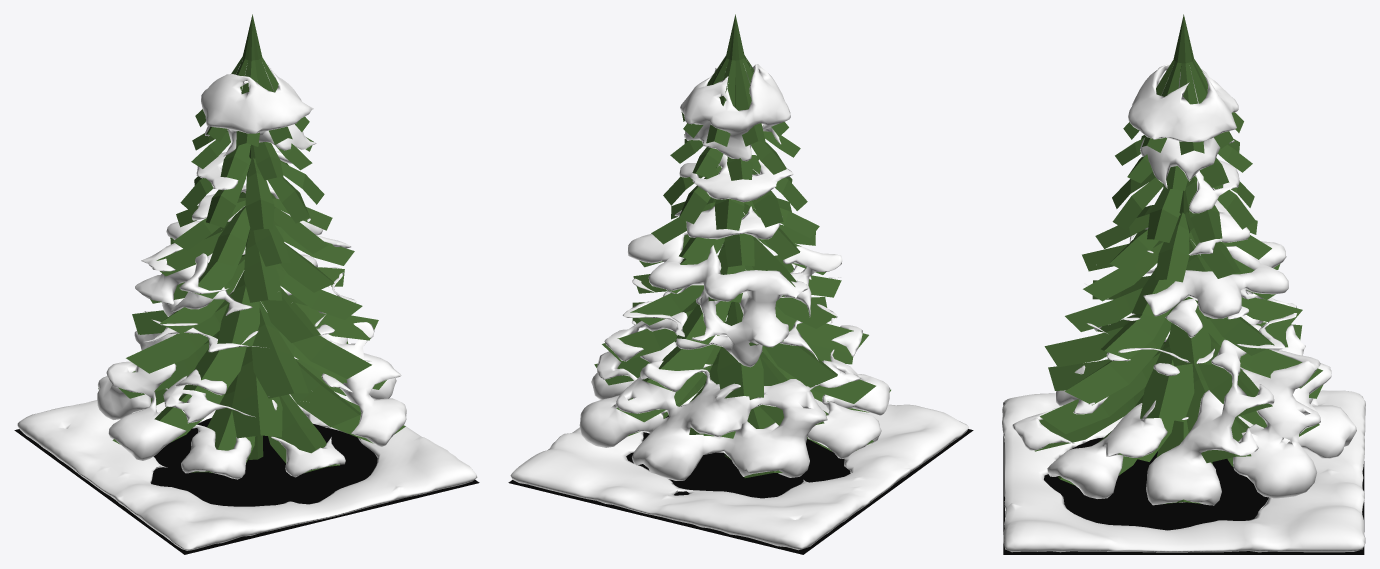
Rendered from Tree_S5P3.glb.
3 views of the same model, side by side, from view 1: azimuth 30°, elevation 25°; view 2: azimuth 150°, elevation 25°; view 3: azimuth 270°, elevation 25° (orthographic). The views are drawn at different scales.
Visible parts, largest first — view 1: SnowMesh, Fir_Tree, Plane; view 2: SnowMesh, Fir_Tree, Plane; view 3: SnowMesh, Fir_Tree, Plane.
Part boxes in pixels (x1=…): SnowMesh: x1=17, y1=65, x2=477, y2=550; Fir_Tree: x1=98, y1=14, x2=405, y2=473; Plane: x1=14, y1=418, x2=479, y2=554; SnowMesh: x1=510, y1=64, x2=968, y2=550; Fir_Tree: x1=594, y1=14, x2=890, y2=478; Plane: x1=508, y1=406, x2=973, y2=554; SnowMesh: x1=1002, y1=64, x2=1365, y2=552; Fir_Tree: x1=1034, y1=14, x2=1323, y2=503; Plane: x1=1003, y1=402, x2=1364, y2=554.
Size of the model in its own units: 4.04 by 5.73 by 4.03.
